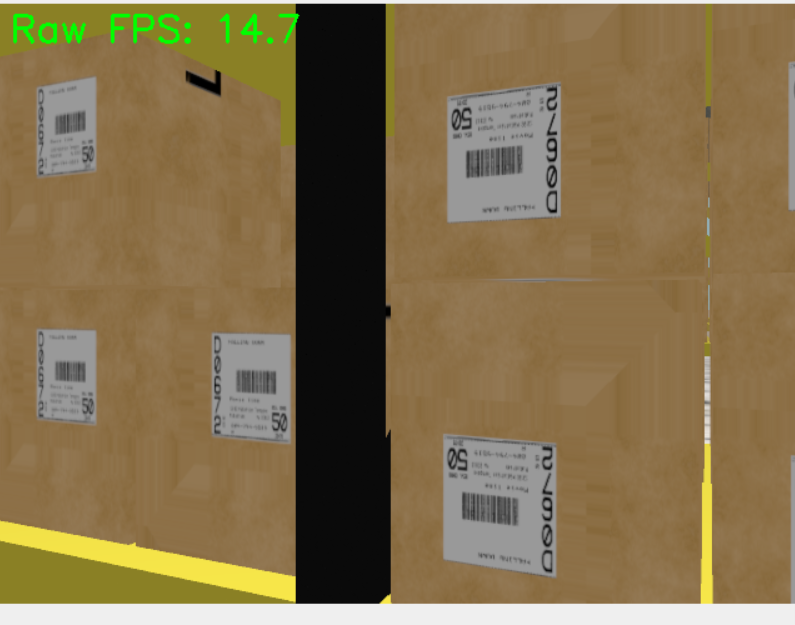barcode: (441, 432, 557, 578), (446, 82, 563, 223), (210, 330, 293, 443), (35, 77, 99, 176), (35, 327, 98, 423)
